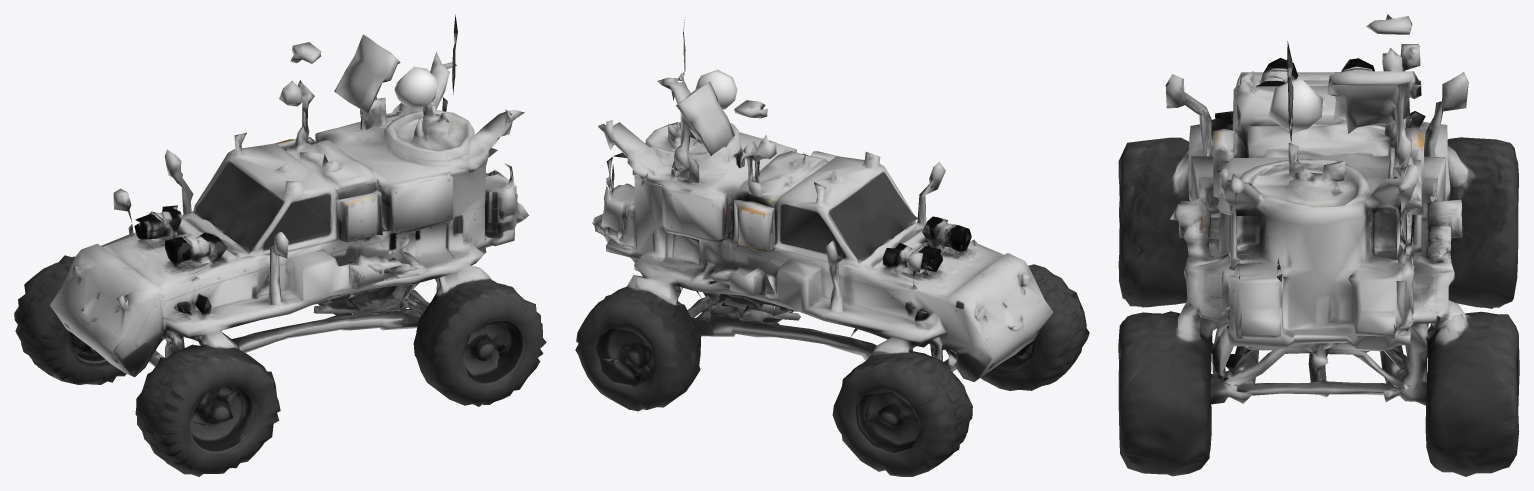
The model's file is Meshy_AI_A_lunar_rover_realis_0417235006_texture.glb.
3 views of the same model, side by side, from view 1: azimuth 30°, elevation 25°; view 2: azimuth 150°, elevation 25°; view 3: azimuth 270°, elevation 25° (orthographic). The views are drawn at different scales.
Size of the model in its own units: 2 by 1.58 by 1.29.
Materials: 1 (1 with a texture image).
